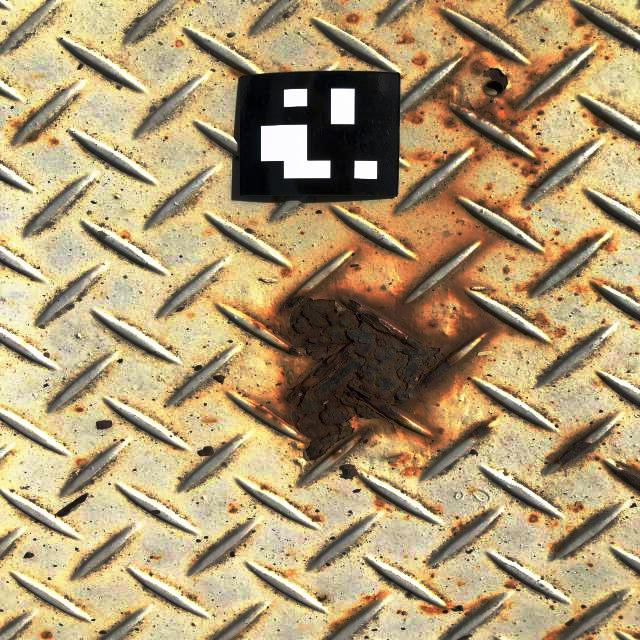Corrosion: (247, 285, 498, 464), (433, 34, 546, 140), (516, 236, 617, 293), (329, 592, 387, 632), (545, 429, 597, 471), (469, 196, 528, 230), (500, 145, 551, 179), (611, 461, 640, 495), (449, 139, 485, 164), (464, 416, 497, 440), (532, 85, 565, 109), (421, 601, 451, 616), (537, 627, 567, 640), (228, 66, 249, 77), (536, 311, 549, 327), (399, 465, 416, 476), (412, 55, 428, 66), (478, 598, 494, 609), (443, 117, 458, 128), (409, 112, 424, 123), (593, 116, 607, 127), (25, 132, 39, 142), (575, 17, 587, 27), (528, 513, 538, 523), (555, 327, 565, 337), (347, 14, 358, 23), (551, 543, 562, 552), (630, 632, 640, 640), (433, 157, 441, 164)
